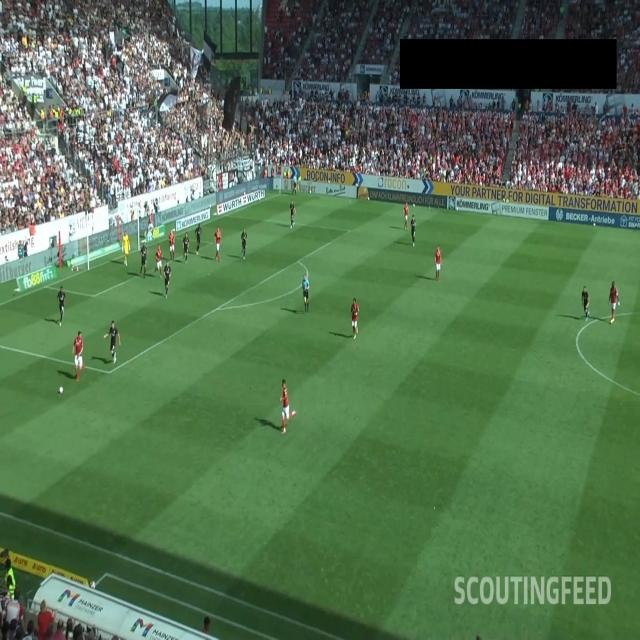ball: (59, 386, 63, 394)
